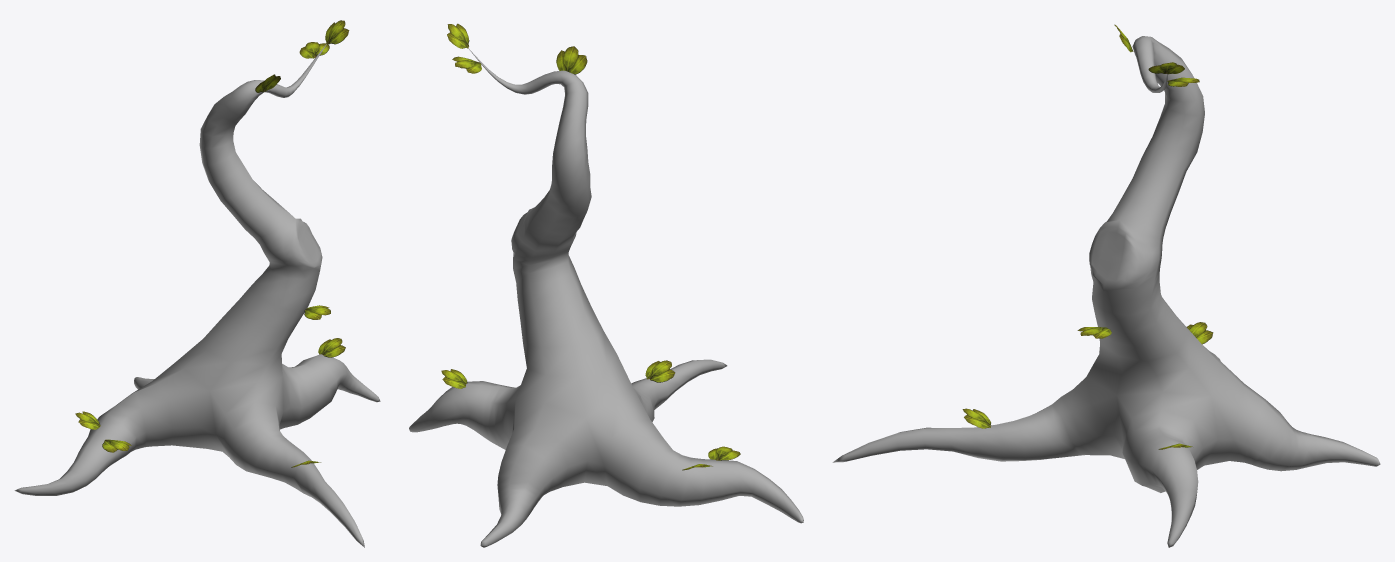
The model's file is Tree_B_Mesh.fbx.
3 renders of one model, left to right at view 1: azimuth 30°, elevation 25°; view 2: azimuth 150°, elevation 25°; view 3: azimuth 270°, elevation 25°, orthographic. The views are drawn at different scales.
Visible parts, largest first — view 1: Tree_B_Mesh; view 2: Tree_B_Mesh; view 3: Tree_B_Mesh.
Part boxes in pixels (x1,y1,x2,y2): Tree_B_Mesh: (14, 20, 380, 547); Tree_B_Mesh: (409, 23, 803, 547); Tree_B_Mesh: (832, 24, 1380, 547).
Size of the model in its own units: 353 by 367 by 383.
